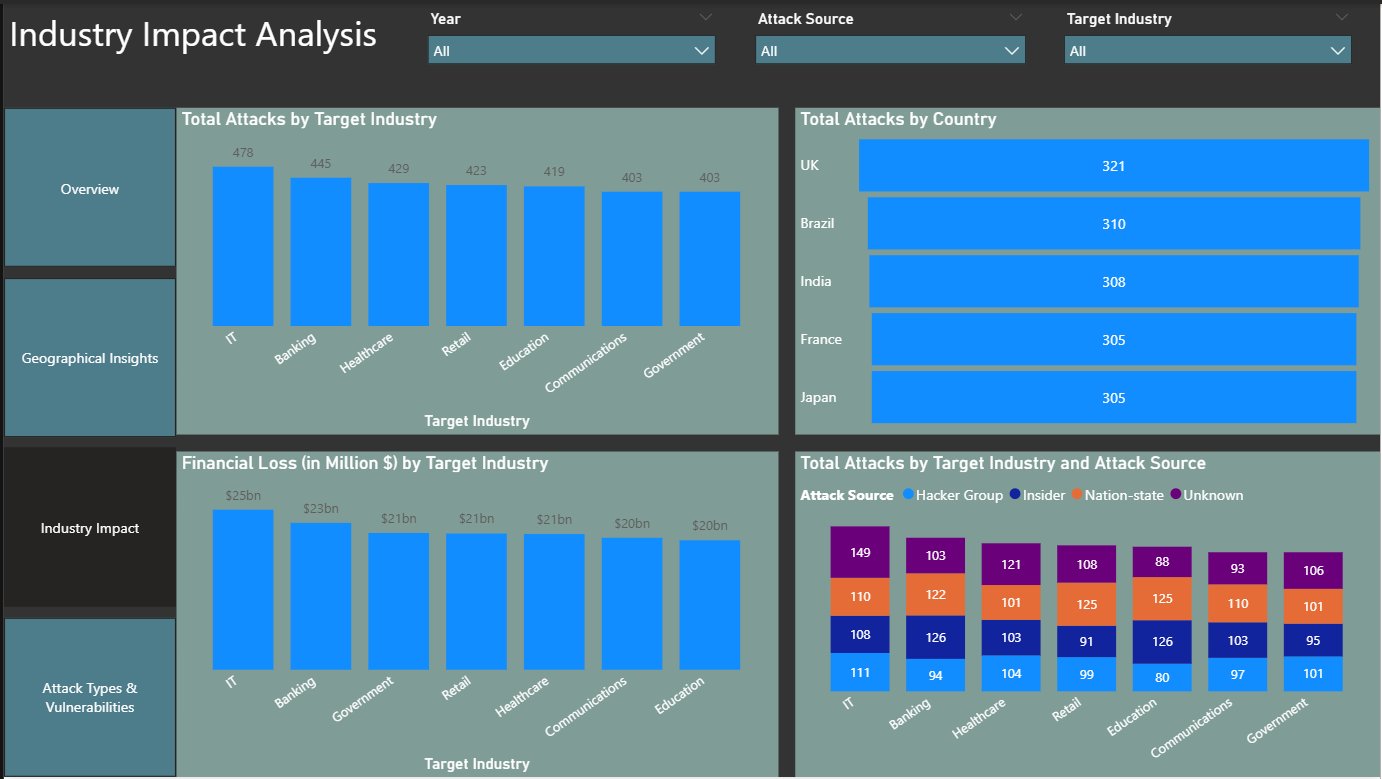

What the dashboard file says about the page in this screenshot:
{"tool":"powerbi","page":{"name":"Industry Impact","canvas":[1280,720],"ordinal":2},"visuals":[{"type":"clusteredColumnChart","fields":{"Category":["Cyber Security.Target Industry"],"Y":["Cyber Security.Total Attacks"]},"box":[160,96,560,304],"z":0},{"type":"funnel","fields":{"Y":["Cyber Security.Total Attacks"],"Category":["Cyber Security.Country"]},"box":[736,96,544,304],"z":1000},{"type":"clusteredColumnChart","title":"Financial Loss (in Million $) by Target Industry","fields":{"Y":["Sum(Cyber Security.Financial Loss (in Million $))"],"Category":["Cyber Security.Target Industry"]},"box":[160,416,560,304],"z":2000},{"type":"columnChart","fields":{"Category":["Cyber Security.Target Industry"],"Y":["Cyber Security.Total Attacks"],"Series":["Cyber Security.Attack Source"]},"box":[736,416,544,304],"z":3000},{"type":"pageNavigator","box":[0,96,160,624],"z":4000},{"type":"slicer","fields":{"Values":["Cyber Security.Target Industry"]},"box":[976,0,288,80],"z":5000},{"type":"slicer","fields":{"Values":["Cyber Security.Attack Source"]},"box":[688,0,272,80],"z":6000},{"type":"slicer","fields":{"Values":["Cyber Security.Year"]},"box":[384,0,288,80],"z":7000},{"type":"textbox","box":[0,0,368,80],"z":8000}]}

Visuals, with their boxes in screenshot pixels (x1, y1, x2, y2), scaled from the page's 1280x720 canvas onto the 1382x779 screenshot:
clusteredColumnChart - Cyber Security.Target Industry x Cyber Security.Total Attacks: <region>173, 104, 777, 433</region>
funnel - Cyber Security.Total Attacks x Cyber Security.Country: <region>795, 104, 1381, 433</region>
"Financial Loss (in Million $) by Target Industry" clusteredColumnChart: <region>173, 450, 777, 778</region>
columnChart - Cyber Security.Target Industry x Cyber Security.Total Attacks: <region>795, 450, 1381, 778</region>
pageNavigator: <region>0, 104, 173, 778</region>
slicer - Cyber Security.Target Industry: <region>1054, 0, 1365, 87</region>
slicer - Cyber Security.Attack Source: <region>743, 0, 1036, 87</region>
slicer - Cyber Security.Year: <region>415, 0, 726, 87</region>
textbox: <region>0, 0, 397, 87</region>
